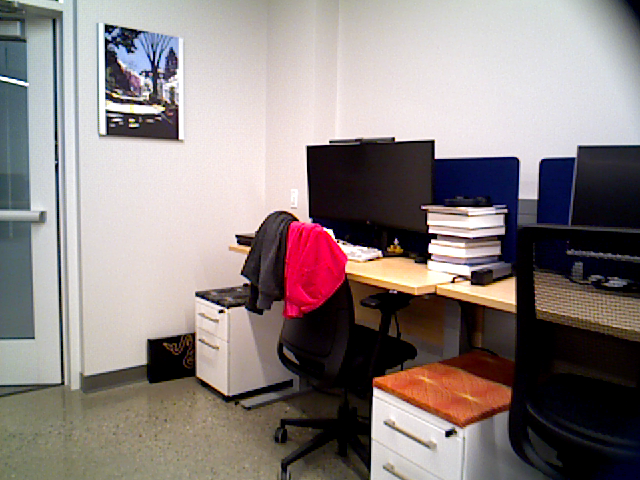painting3: (95, 21, 185, 145)
